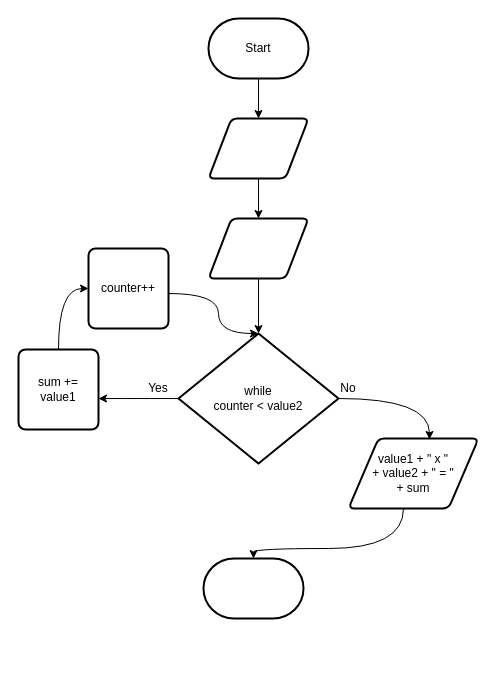
The diagram is 496 pixels wide and 674 high, and some of its shapes have lost their labels. The centre of each missing label's shape, as x and y in pixels:
"Input value1" goes at (x=258, y=148).
"Input value2" goes at (x=258, y=248).
"Stop" goes at (x=253, y=588).
